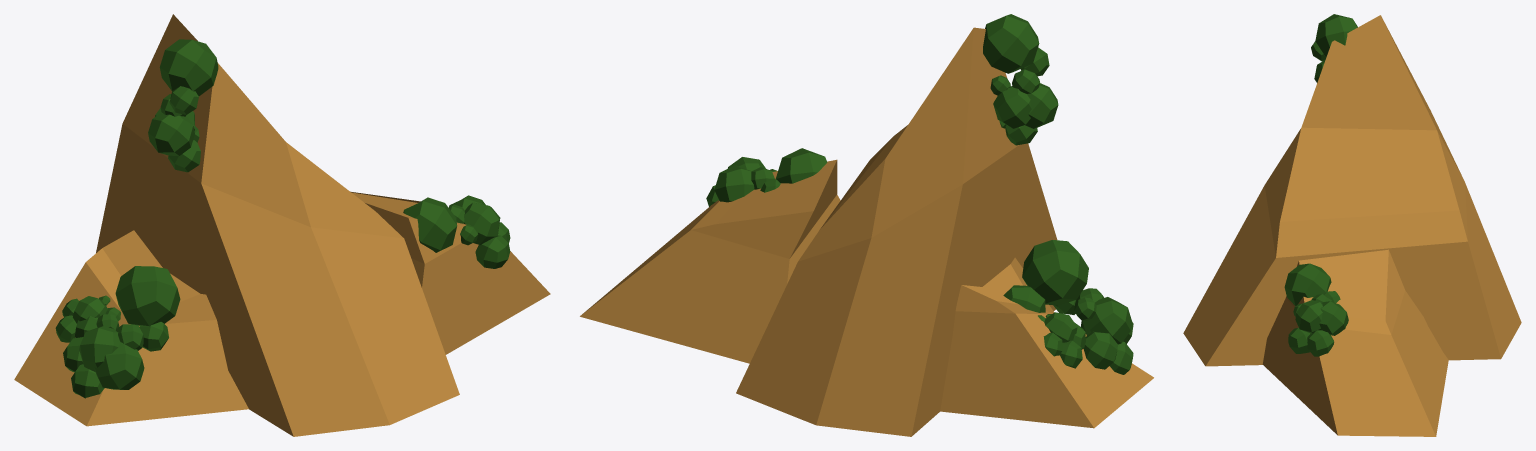
Rendered from Obstaculo2.fbx.
3 views of the same model, side by side, from view 1: azimuth 30°, elevation 25°; view 2: azimuth 150°, elevation 25°; view 3: azimuth 270°, elevation 25° (orthographic). The views are drawn at different scales.
Parts seen in each view (by area): view 1: Obstaculo2; view 2: Obstaculo2; view 3: Obstaculo2.
Boxes of the visible parts, left/top/right/bottom form: Obstaculo2: left=14, top=14, right=550, bottom=436; Obstaculo2: left=580, top=14, right=1153, bottom=436; Obstaculo2: left=1183, top=14, right=1521, bottom=436.
Bounding box in the file's own units: 1837 × 1233 × 1343.
